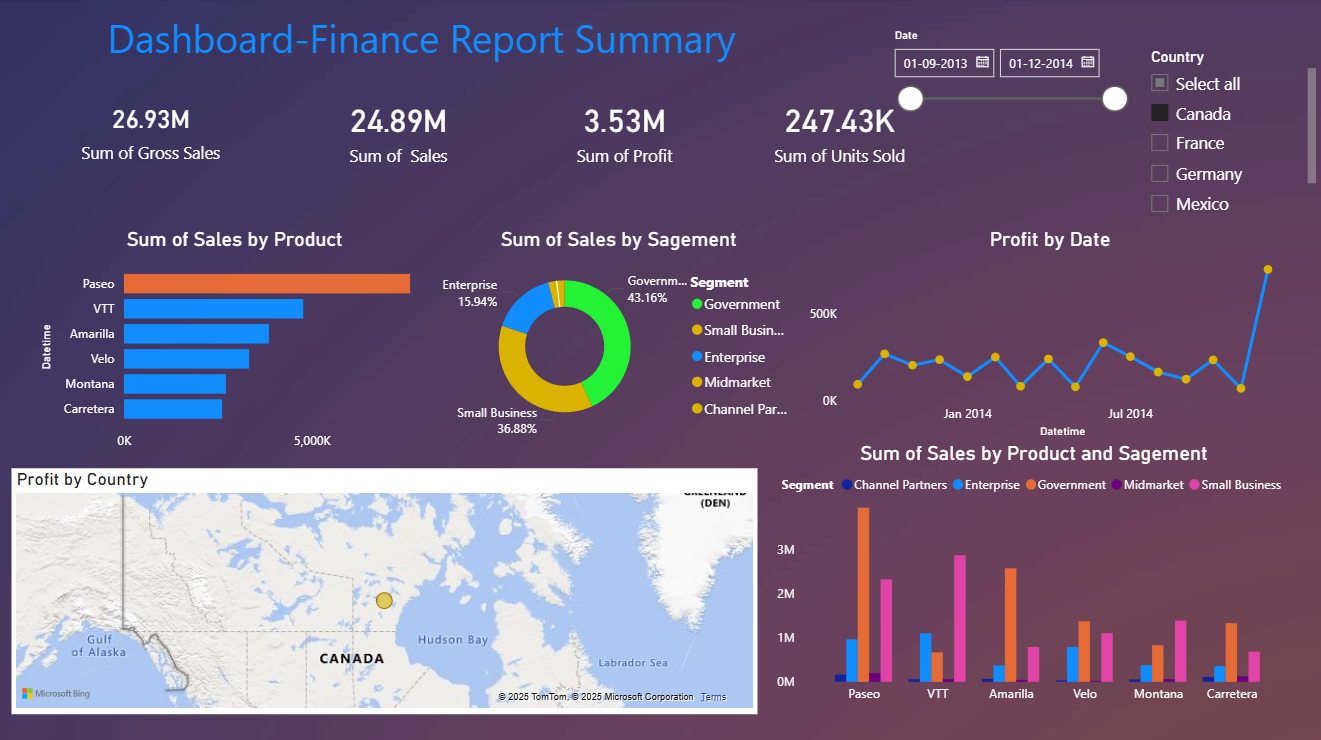

The dashboard page shown, as its layout file describes it:
{"tool":"powerbi","page":{"name":"Page 1","canvas":[1280,720],"ordinal":0},"visuals":[{"type":"lineChart","title":"Profit by Date","fields":{"Y":["Sum(financials.Profit)"],"Category":["financials.Date.Variation.Date Hierarchy.Year","financials.Date.Variation.Date Hierarchy.Quarter","financials.Date.Variation.Date Hierarchy.Month","financials.Date.Variation.Date Hierarchy.Day"]},"box":[781.7,223.3,475,206.7],"z":0},{"type":"clusteredColumnChart","title":"Sum of Sales by Product and Sagement","fields":{"Category":["financials.Product"],"Y":["Sum(financials. Sales)"],"Series":["financials.Segment"]},"box":[750,430,506.7,261.7],"z":1000},{"type":"donutChart","title":"Sum of Sales by Sagement","fields":{"Category":["financials.Segment"],"Y":["Sum(financials. Sales)"]},"box":[425,223.3,356.7,206.7],"z":2000},{"type":"clusteredBarChart","title":"Sum of Sales by Product","fields":{"Category":["financials.Product"],"Y":["Sum(financials. Sales)"]},"box":[40,223.3,385,223.3],"z":3000},{"type":"map","title":"Profit by Country","fields":{"Category":["financials.Country"],"Size":["Sum(financials.Profit)"]},"box":[16.7,455,720,236.7],"z":4000},{"type":"card","fields":{"Values":["Sum(financials.Gross Sales)"]},"box":[40,70,223.3,116.7],"z":5000},{"type":"card","fields":{"Values":["Sum(financials. Sales)"]},"box":[263.3,70,255,116.7],"z":6000},{"type":"card","fields":{"Values":["Sum(financials.Profit)"]},"box":[481.7,70,255,116.7],"z":7000},{"type":"card","fields":{"Values":["Sum(financials.Units Sold)"]},"box":[688.3,70,255,116.7],"z":8000},{"type":"slicer","fields":{"Values":["financials.Date"]},"box":[856.7,25,246.7,91.7],"z":9000},{"type":"slicer","fields":{"Values":["financials.Country"]},"box":[1103.3,45,176.7,168.3],"z":10000},{"type":"textbox","box":[43.3,10,738.3,83.3],"z":10001}]}

Visuals, with their boxes in screenshot pixels (x1, y1, x2, y2), scaled from the page's 1280x720 canvas onto the 1321x740 screenshot:
"Profit by Date" lineChart: Rect(807, 230, 1297, 442)
"Sum of Sales by Product and Sagement" clusteredColumnChart: Rect(774, 442, 1297, 711)
"Sum of Sales by Sagement" donutChart: Rect(439, 230, 807, 442)
"Sum of Sales by Product" clusteredBarChart: Rect(41, 230, 439, 459)
"Profit by Country" map: Rect(17, 468, 760, 711)
card - Sum(financials.Gross Sales): Rect(41, 72, 272, 192)
card - Sum(financials. Sales): Rect(272, 72, 535, 192)
card - Sum(financials.Profit): Rect(497, 72, 760, 192)
card - Sum(financials.Units Sold): Rect(710, 72, 974, 192)
slicer - financials.Date: Rect(884, 26, 1139, 120)
slicer - financials.Country: Rect(1139, 46, 1320, 219)
textbox: Rect(45, 10, 807, 96)
